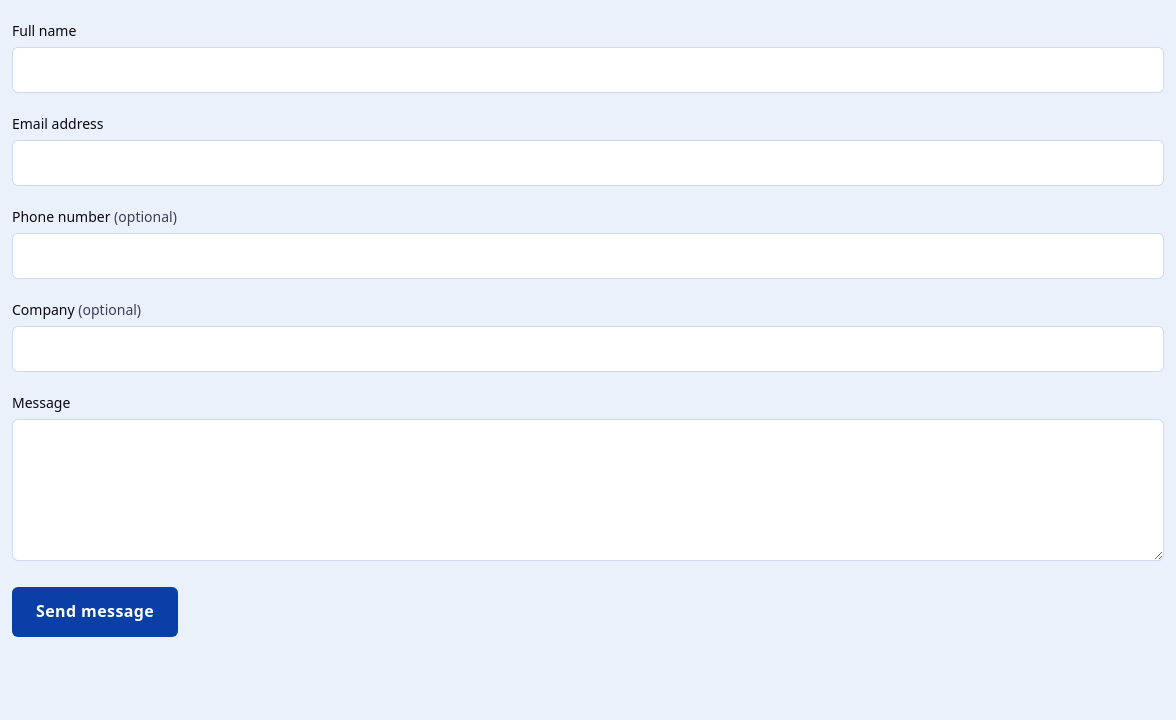
ContactForm › shows field errors and does not submit when required fields are empty
Click the button "Send message": (95, 612) [12, 587, 178, 637]
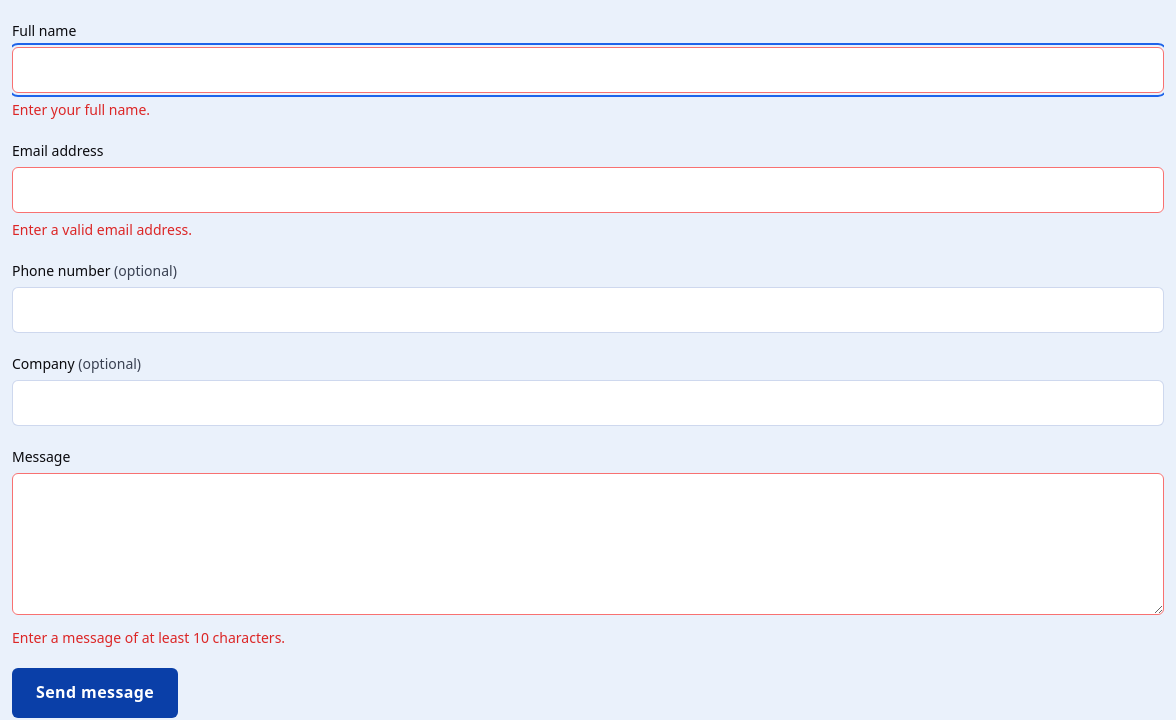
Expected: the text "Enter your full name." is shown, [12, 100, 150, 119]
Expected: the text "Enter a valid email address." is shown, [12, 220, 192, 239]
